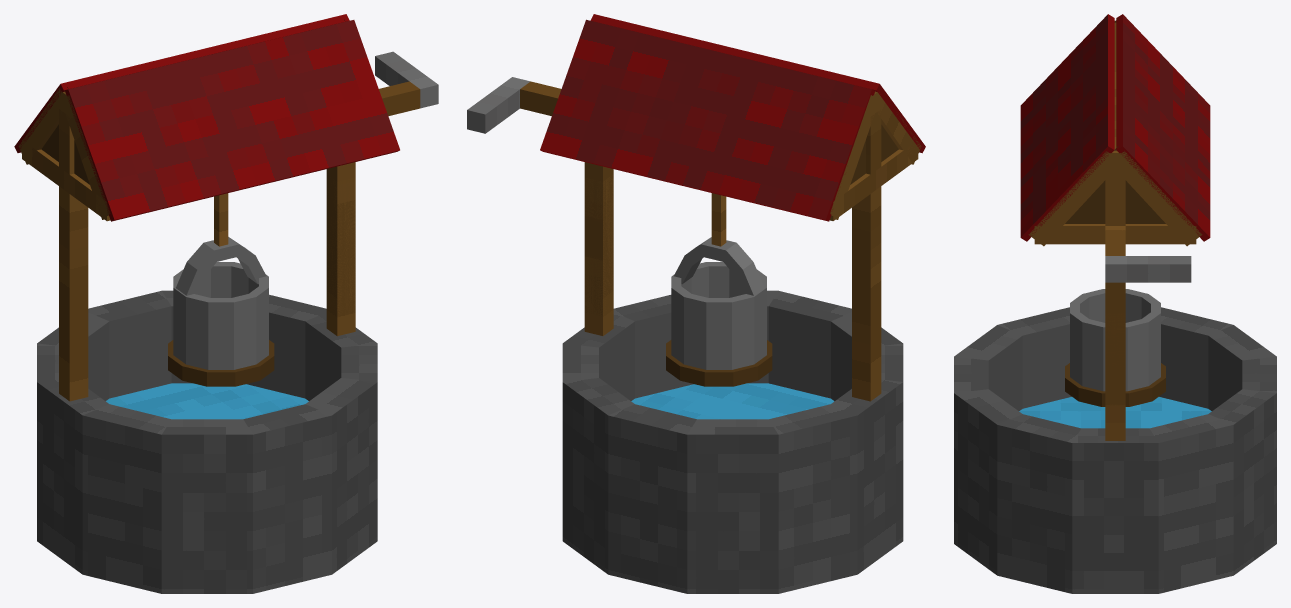
The model's file is well.glb.
The picture shows the model from 3 angles, left to right: view 1: azimuth 30°, elevation 25°; view 2: azimuth 150°, elevation 25°; view 3: azimuth 270°, elevation 25°; orthographic projection. The views are drawn at different scales.
Parts seen in each view (by area): view 1: tube_0, cube_14, tube_26, cube_18, cube_1, cube_13, cube_7, tube_25, tube_27, cube_2, cube_24, cube_3 (+5 smaller); view 2: tube_0, cube_13, tube_26, cube_18, cube_1, cube_14, cube_7, tube_25, tube_27, cube_24, cube_2, cube_5 (+5 smaller); view 3: tube_0, cube_14, cube_13, tube_26, cube_1, cube_12, cube_24, cube_8, cube_9, cube_7, pyramid_17, tube_27 (+2 smaller).
Part boxes in pixels (box(x1,y1,x2,y2)): tube_0: box(37, 290, 377, 593); cube_14: box(65, 20, 399, 221); tube_26: box(173, 262, 268, 369); cube_18: box(59, 186, 88, 401); cube_1: box(326, 162, 355, 336); cube_13: box(14, 14, 349, 152); cube_7: box(326, 177, 355, 335); tube_25: box(176, 237, 266, 295); tube_27: box(168, 340, 274, 386); cube_2: box(22, 140, 110, 221); cube_24: box(375, 51, 438, 108); cube_3: box(61, 95, 110, 219); tube_0: box(562, 290, 903, 593); cube_13: box(540, 19, 875, 221); tube_26: box(671, 262, 766, 369); cube_18: box(852, 186, 881, 401); cube_1: box(584, 162, 613, 335); cube_14: box(590, 14, 925, 153); cube_7: box(584, 175, 613, 334); tube_25: box(674, 237, 764, 295); tube_27: box(666, 340, 772, 386); cube_24: box(467, 77, 530, 133); cube_2: box(830, 145, 918, 220); cube_5: box(830, 95, 878, 219); tube_0: box(954, 307, 1276, 593); cube_14: box(1020, 14, 1114, 241); cube_13: box(1116, 14, 1210, 241); tube_26: box(1070, 289, 1160, 391); cube_1: box(1105, 282, 1125, 440); cube_12: box(1034, 224, 1196, 244); cube_24: box(1105, 256, 1191, 282); cube_8: box(1109, 151, 1202, 246); cube_9: box(1028, 151, 1120, 246); cube_7: box(1105, 294, 1125, 440); pyramid_17: box(1065, 146, 1165, 223); tube_27: box(1065, 363, 1165, 406).
Size of the model in its own units: 1.27 by 1.52 by 1.
1 material, 1 textured.
